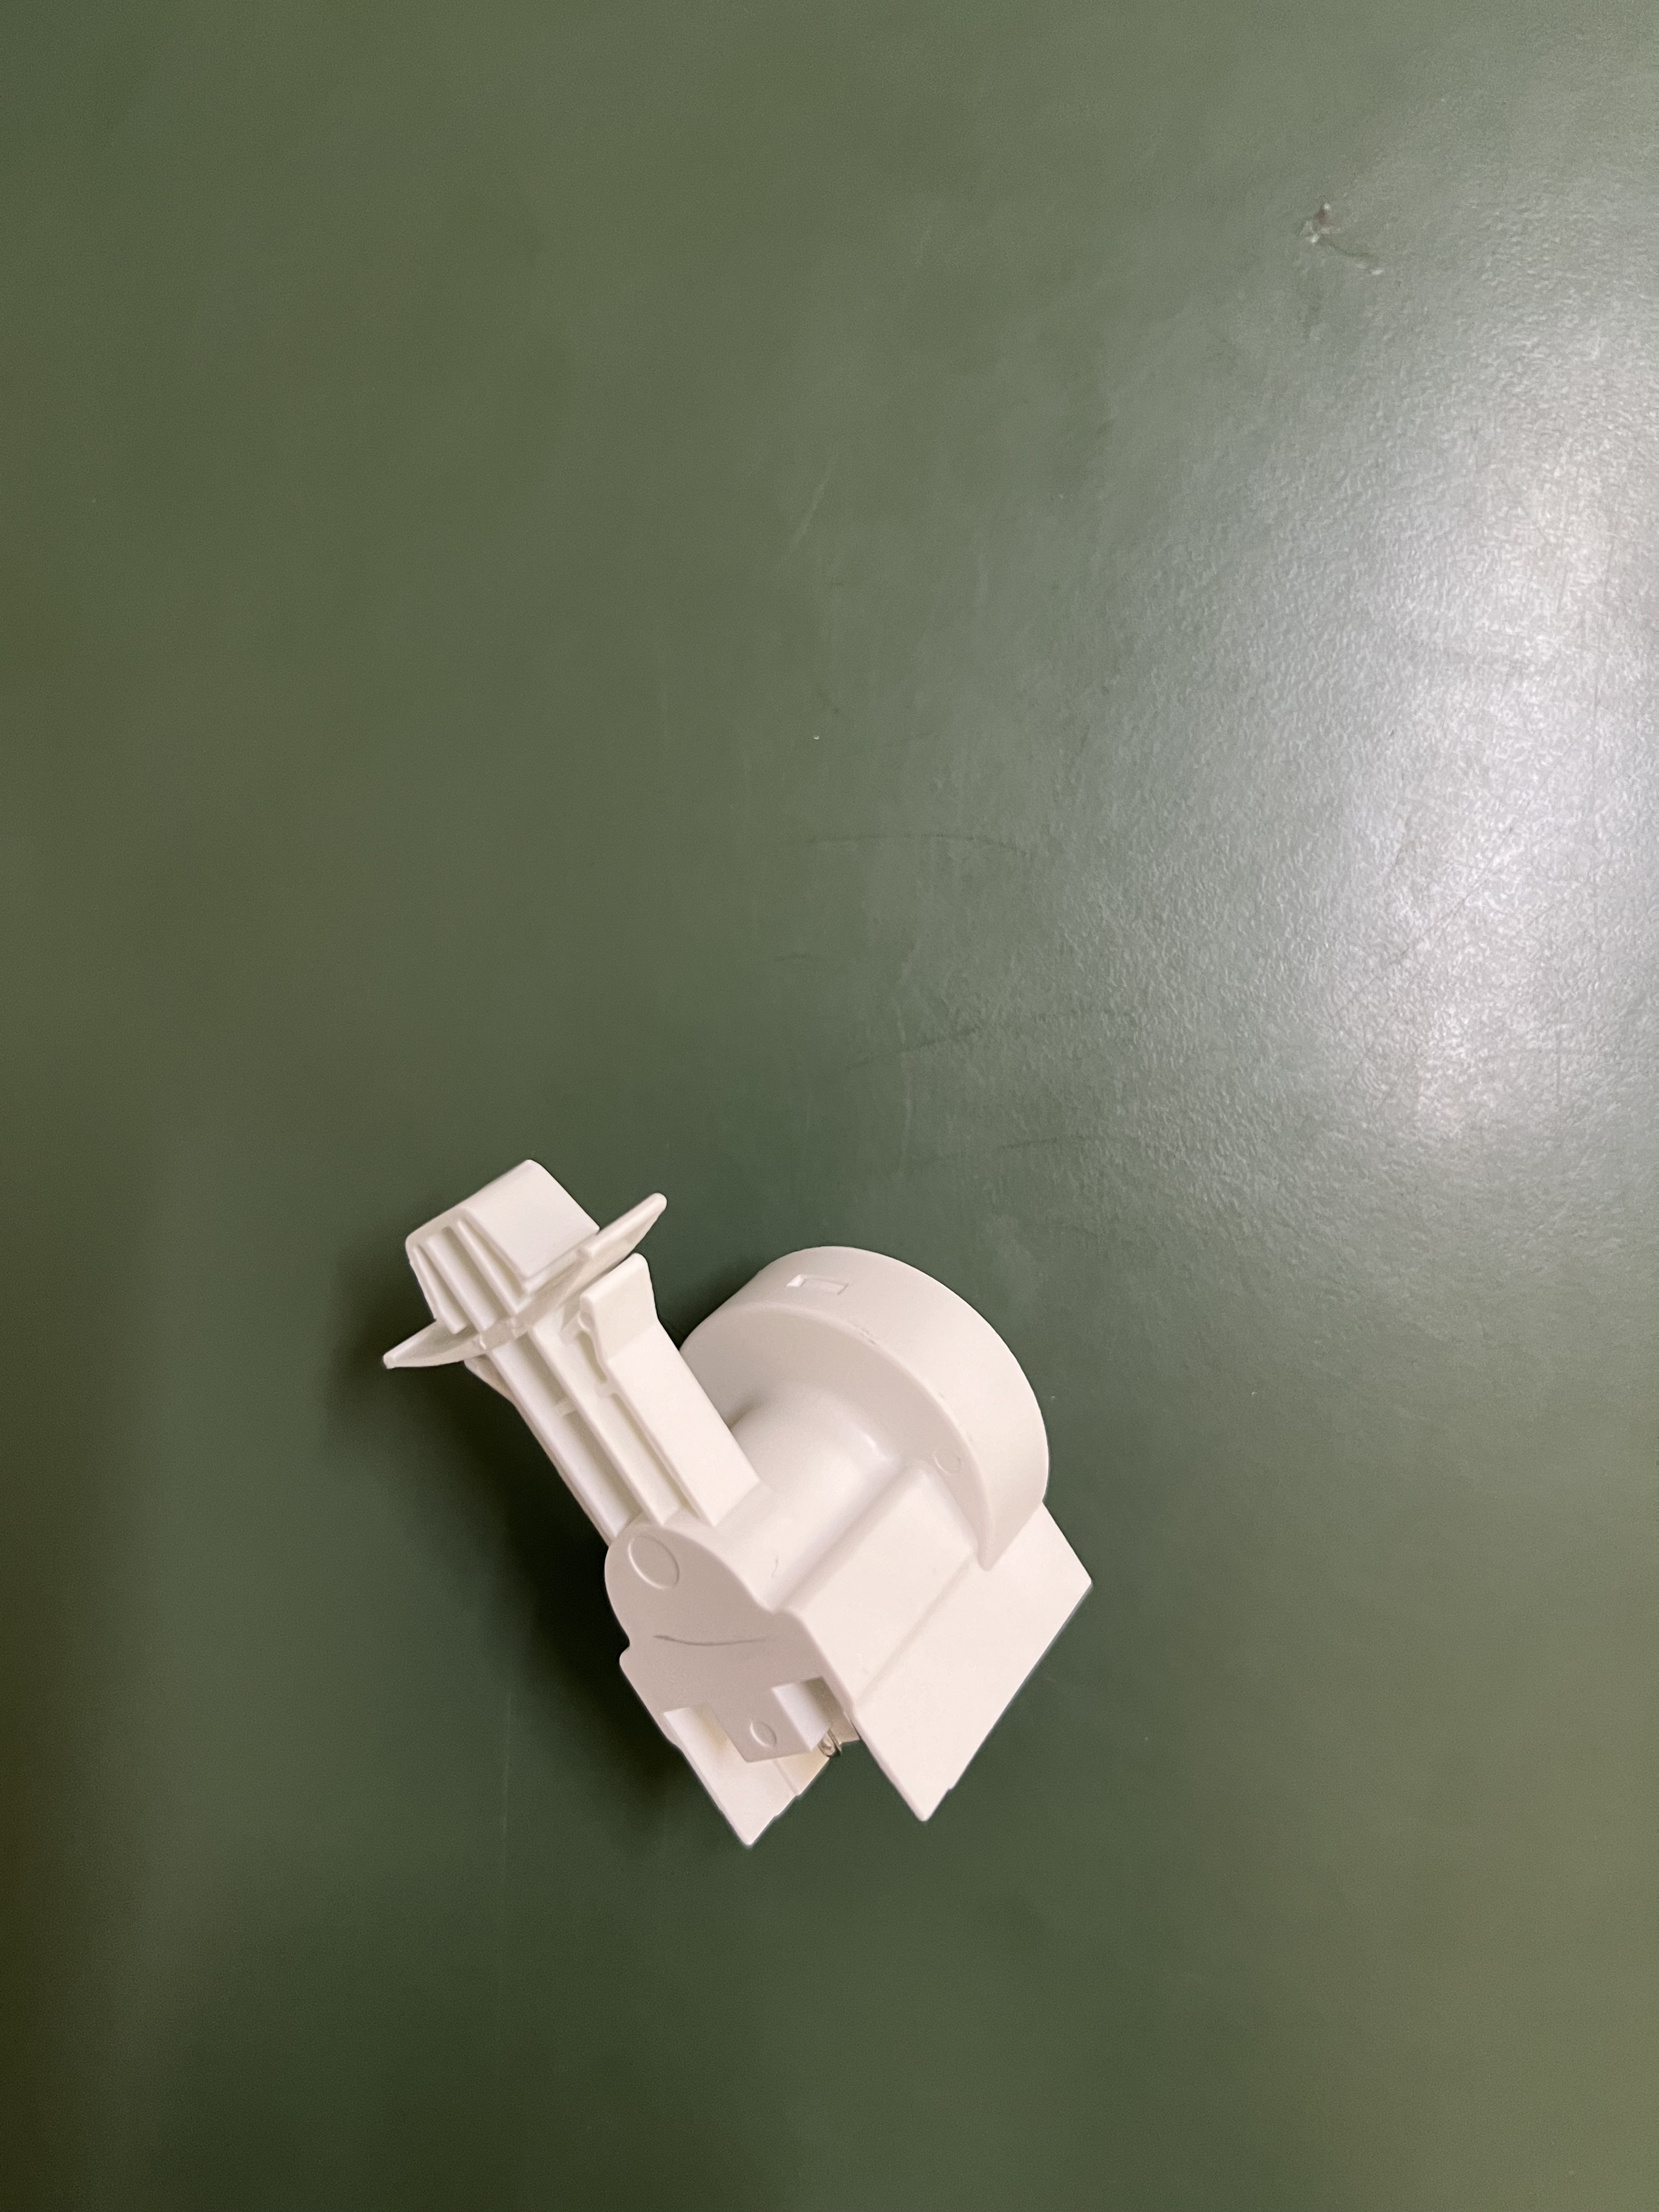pressure_switch_1: (354, 1150, 1100, 1839)
